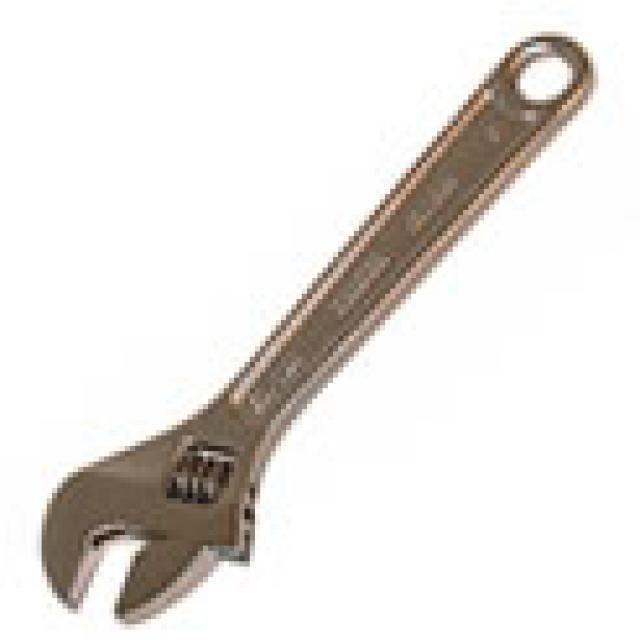wrench: (38, 24, 600, 628)
